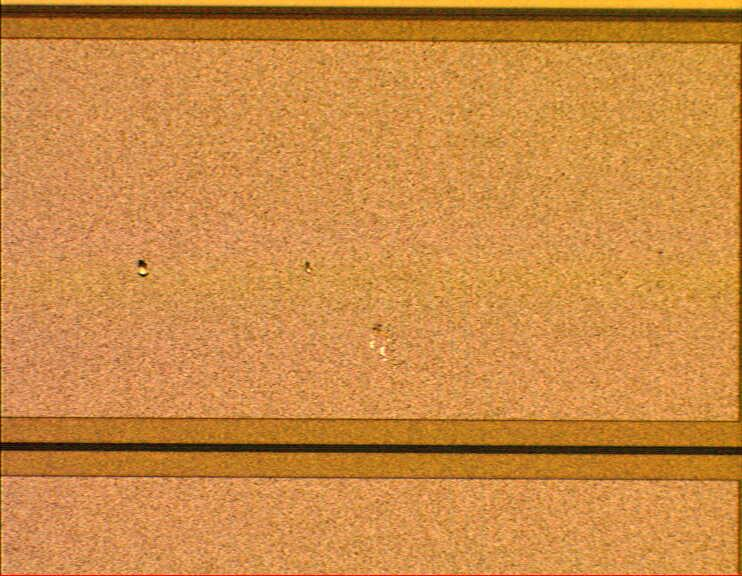PIQ PARTICLE: (131, 258, 407, 369)
